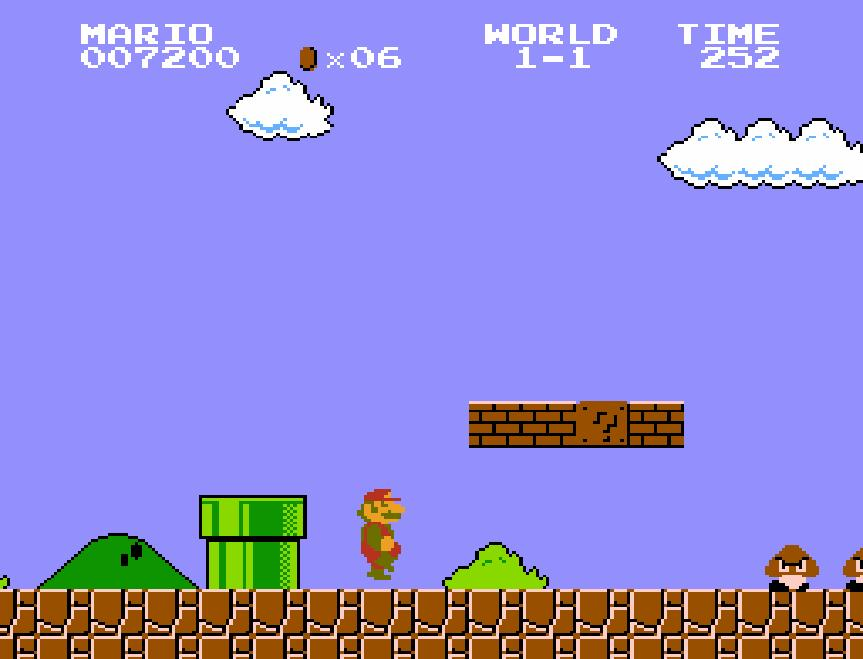big_mario: (352, 484, 410, 582)
